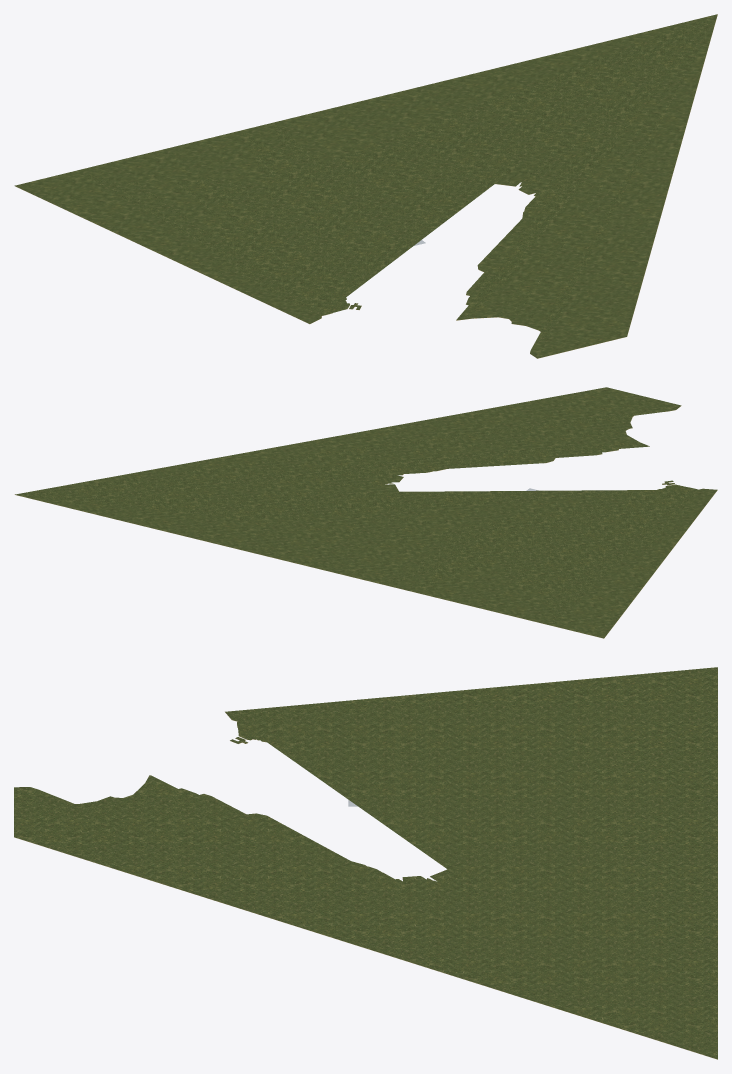
The model's file is RJTT_2.fbx.
3 renders of one model, top to bottom at view 1: azimuth 30°, elevation 25°; view 2: azimuth 150°, elevation 25°; view 3: azimuth 270°, elevation 25°, orthographic. The views are drawn at different scales.
Visible parts, largest first — view 1: tokyo_terrain; view 2: tokyo_terrain; view 3: tokyo_terrain.
Part boxes in pixels (box(x1,y1,x2,y2)): tokyo_terrain: box(14, 14, 717, 358); tokyo_terrain: box(14, 387, 717, 638); tokyo_terrain: box(14, 667, 717, 1059).
Bounding box in the file's own units: 1.29e+07 × 2136 × 9783940.
